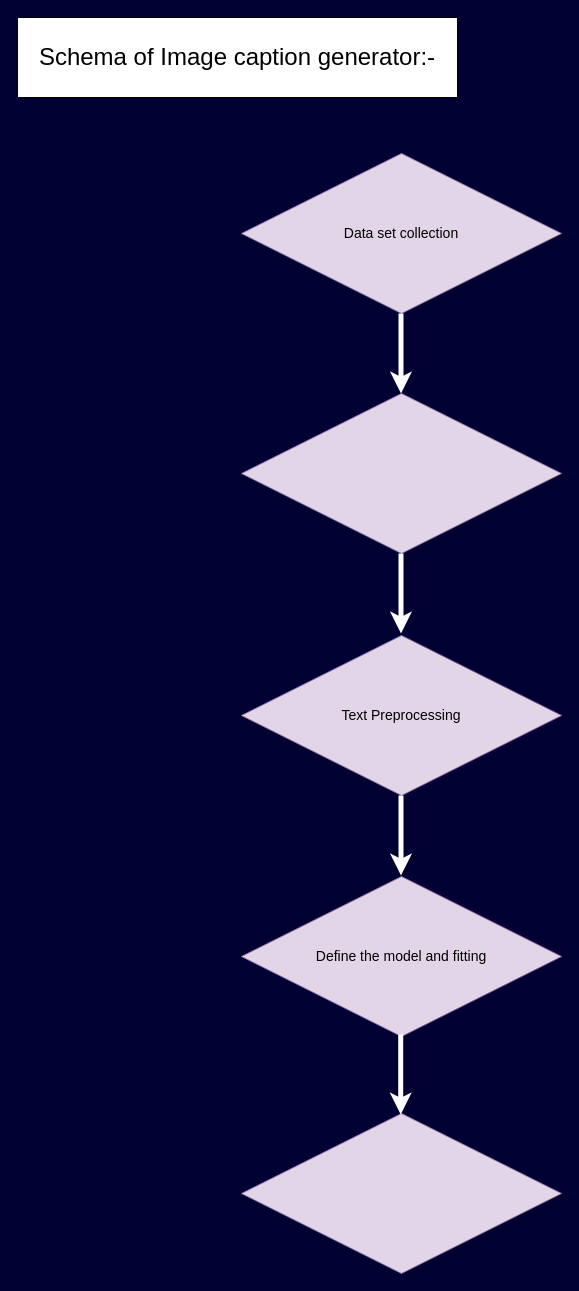
This 579x1291 diagram has some shape labels left out. The shapes that lost their labels are listed below. From the top down, each one's box as (x1, y1, x2, y2) in pixels, then its label:
(240, 392, 562, 554): Image Preprocessing
(240, 1112, 562, 1274): Testing and result analysis
